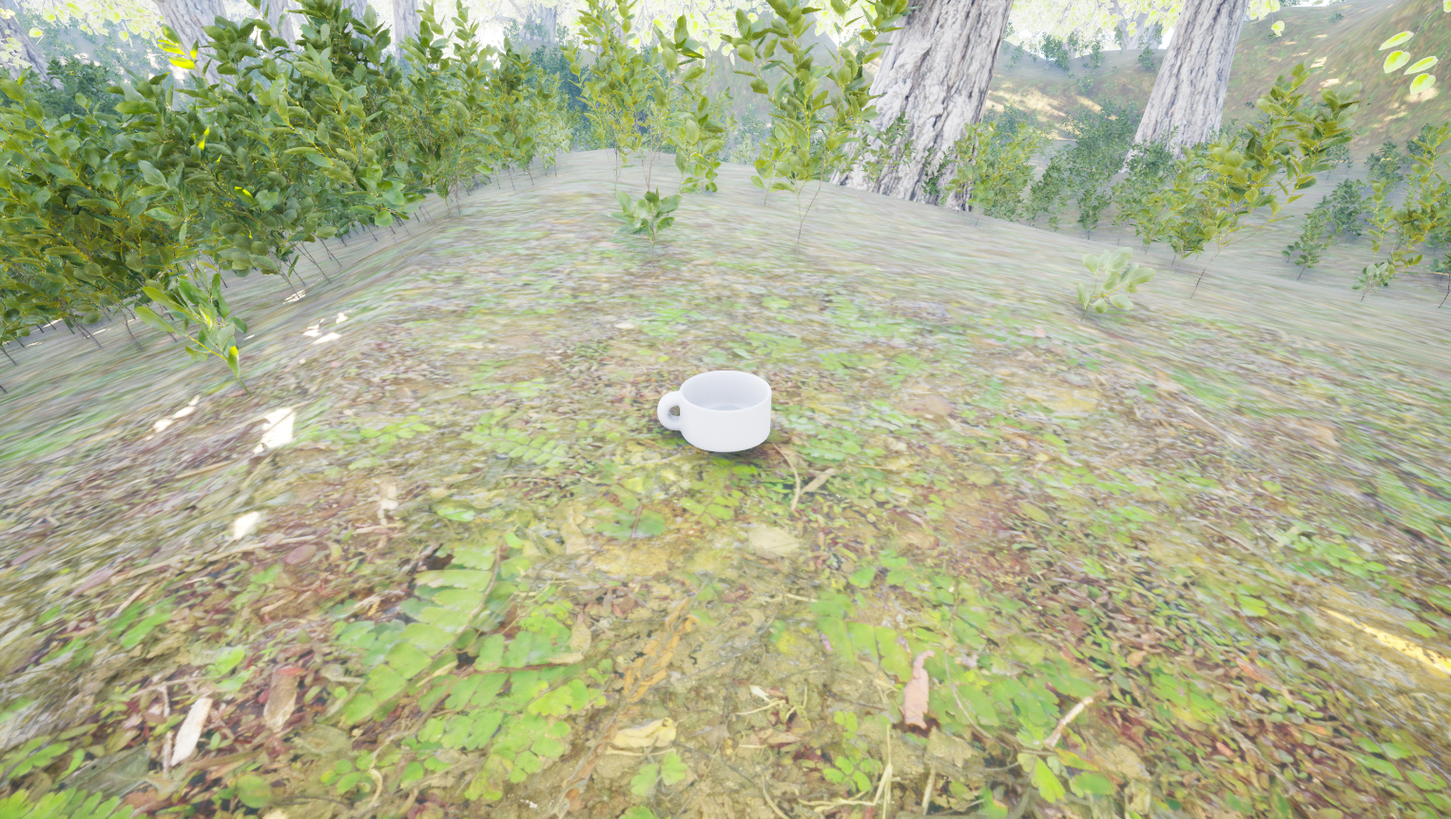Teacup: (649, 361, 787, 463)
